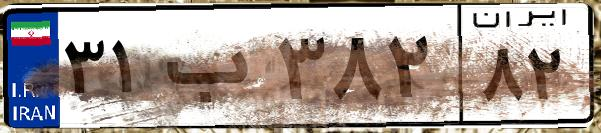1: (110, 28, 158, 98)
2: (385, 28, 445, 110), (525, 38, 570, 115)
3: (270, 28, 330, 110), (57, 26, 110, 100)
8: (330, 28, 385, 110), (475, 38, 525, 113)
ب: (158, 20, 270, 120)
